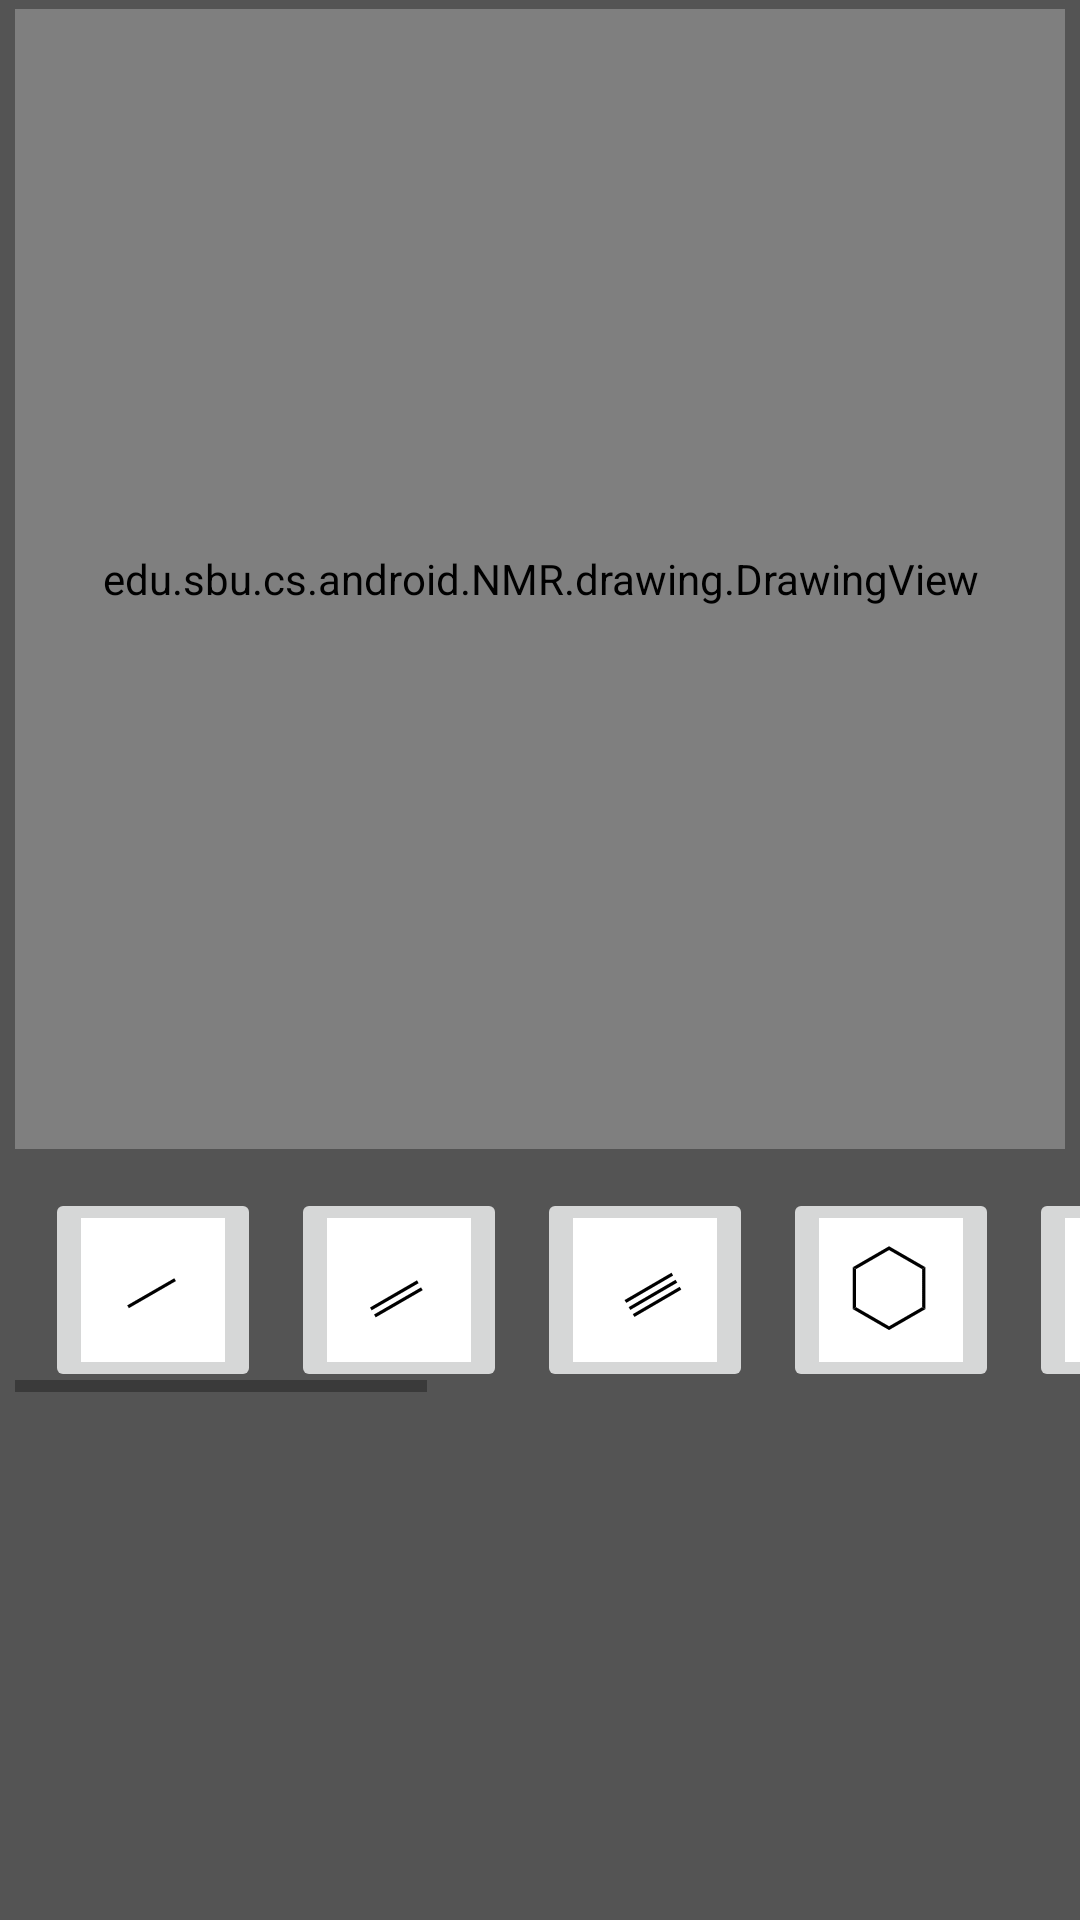

Named icons in this screenshot (1080w x 1920h) and their bounding boxes, (x1, y1, x2, y2):
cyclohexane: (795, 1206, 987, 1374)
doublebond: (303, 1206, 495, 1374)
singlebond: (57, 1206, 249, 1374)
triplebond: (549, 1206, 741, 1374)
